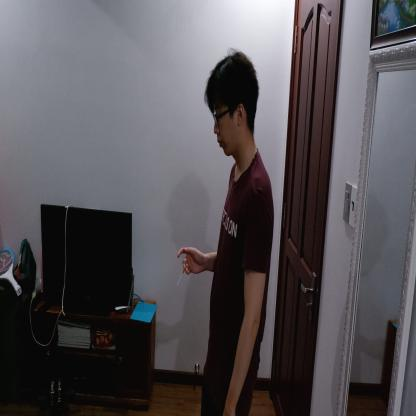cigarette: (176, 269, 184, 287)
person: (179, 49, 277, 415)
